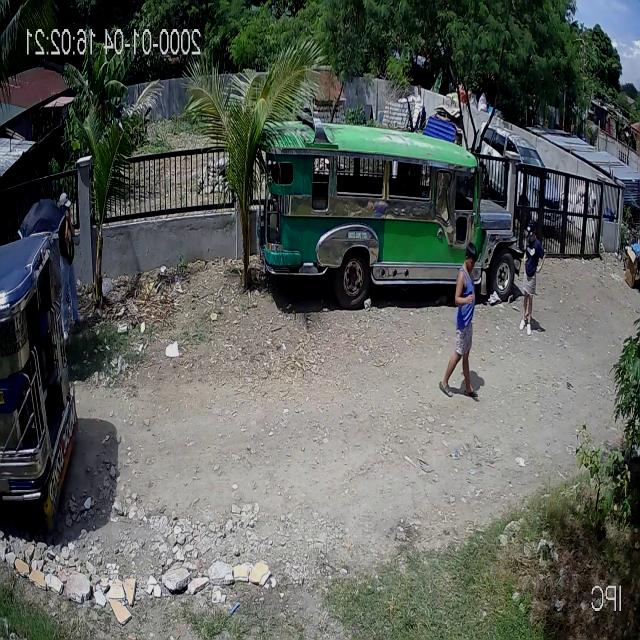standing: (55, 190, 82, 328), (517, 221, 544, 339)
walking: (438, 236, 478, 400)
